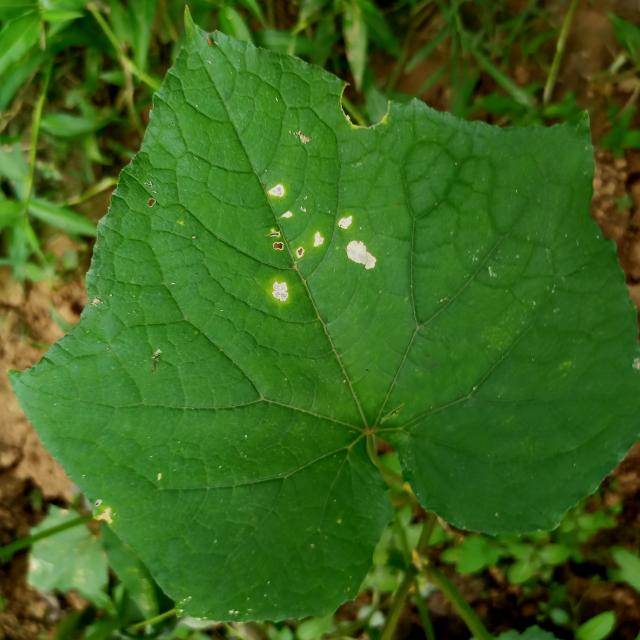disease_cucumber: (268, 183, 377, 302)
